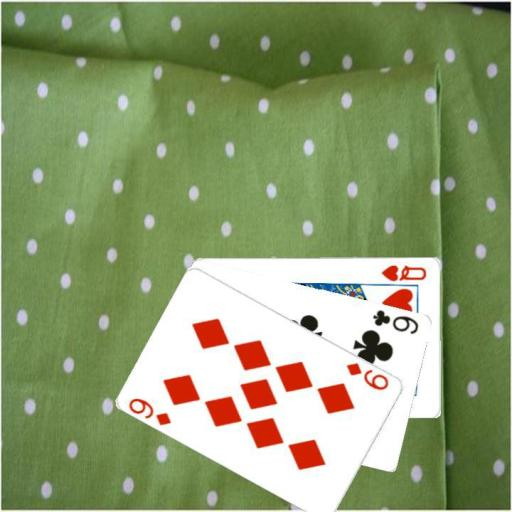6C: (370, 306, 420, 336)
9D: (344, 359, 391, 392), (126, 395, 173, 427)
QH: (379, 261, 429, 282)
